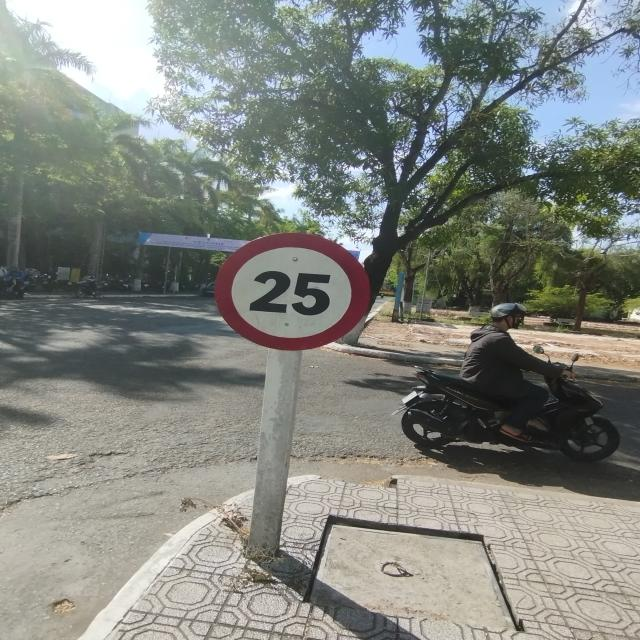Tre_Em: (213, 232, 372, 351)
